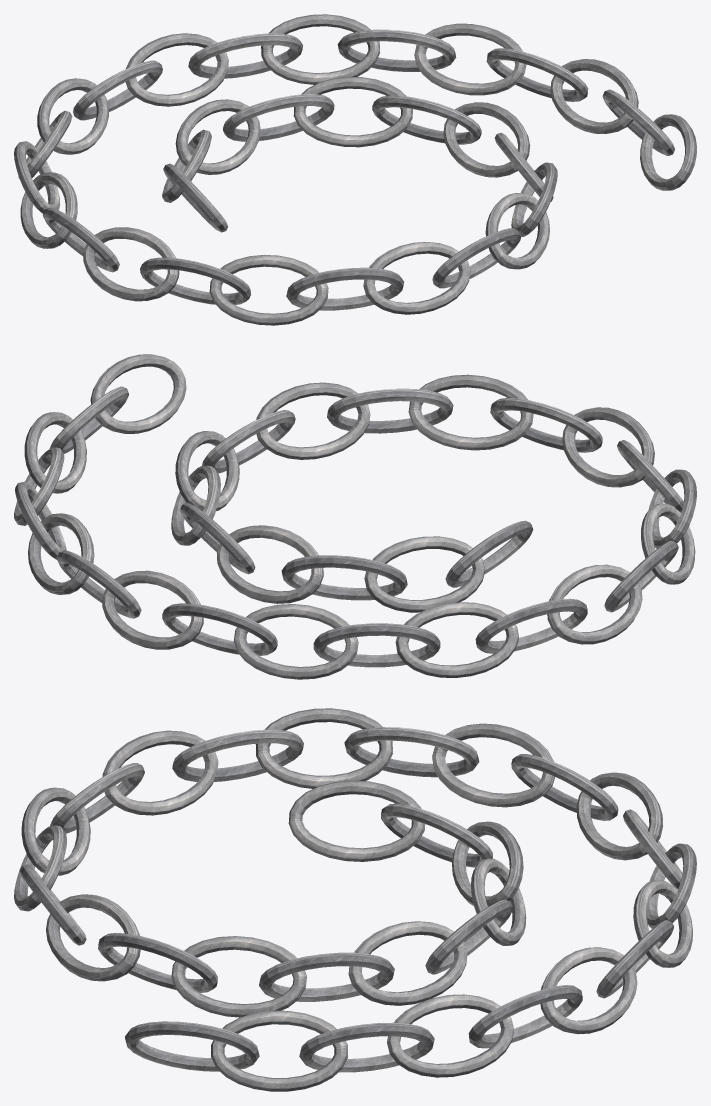
File: silver_chain.obj
3 renders of one model, top to bottom at view 1: azimuth 30°, elevation 25°; view 2: azimuth 150°, elevation 25°; view 3: azimuth 270°, elevation 25°, orthographic. The views are drawn at different scales.
Parts seen in each view (by area): view 1: link_17, link_26, link_04, link_06, link_19, link_08, link_15, link_05, link_18, link_07, link_27, link_02 (+19 smaller); view 2: link_09, link_11, link_20, link_29, link_22, link_27, link_00, link_21, link_10, link_07, link_28, link_13 (+19 smaller); view 3: link_30, link_01, link_23, link_03, link_14, link_12, link_25, link_00, link_16, link_24, link_13, link_02 (+19 smaller).
Part boxes in pixels (x1=…): link_17: x1=209, y1=255, x2=328, y2=325; link_26: x1=293, y1=77, x2=412, y2=147; link_04: x1=414, y1=23, x2=526, y2=95; link_06: x1=261, y1=14, x2=380, y2=84; link_19: x1=363, y1=242, x2=470, y2=314; link_08: x1=125, y1=33, x2=228, y2=106; link_15: x1=83, y1=227, x2=179, y2=301; link_05: x1=337, y1=29, x2=456, y2=71; link_18: x1=286, y1=267, x2=404, y2=310; link_07: x1=188, y1=33, x2=303, y2=78; link_27: x1=223, y1=94, x2=334, y2=141; link_02: x1=550, y1=59, x2=638, y2=133; link_09: x1=234, y1=604, x2=358, y2=679; link_11: x1=395, y1=602, x2=518, y2=677; link_20: x1=408, y1=374, x2=533, y2=450; link_29: x1=364, y1=536, x2=485, y2=612; link_22: x1=256, y1=382, x2=370, y2=459; link_27: x1=217, y1=525, x2=323, y2=603; link_00: x1=90, y1=354, x2=186, y2=433; link_21: x1=327, y1=388, x2=453, y2=433; link_10: x1=313, y1=623, x2=440, y2=667; link_07: x1=102, y1=570, x2=203, y2=649; link_28: x1=281, y1=555, x2=407, y2=600; link_13: x1=547, y1=564, x2=642, y2=644; link_30: x1=288, y1=780, x2=425, y2=861; link_01: x1=211, y1=1010, x2=347, y2=1091; link_23: x1=171, y1=936, x2=306, y2=1017; link_03: x1=387, y1=994, x2=514, y2=1077; link_14: x1=255, y1=708, x2=392, y2=788; link_12: x1=432, y1=723, x2=554, y2=807; link_25: x1=348, y1=921, x2=467, y2=1005; link_00: x1=125, y1=1021, x2=259, y2=1071; link_16: x1=102, y1=730, x2=218, y2=815; link_24: x1=259, y1=952, x2=394, y2=1001; link_13: x1=344, y1=727, x2=479, y2=777; link_02: x1=299, y1=1022, x2=434, y2=1072.
Size of the model in its own units: 104 by 9.41 by 92.42.
1 material, 1 textured.
